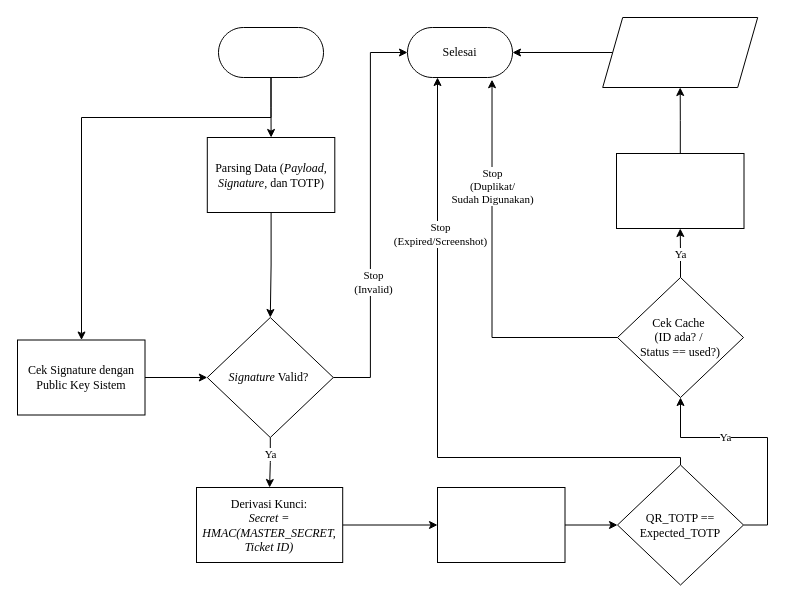
This 793x603 diagram has some shape labels left out. Here are the shapes that lost their labels. From the top down, the centre of each, then its label:
the point at 271,52: Mulai
the point at 680,52: Akses Diterima (Gerbang Buka)
the point at 680,190: Simpan ID dan Status ke Cache
the point at 500,524: Hitung Expected_TOTP = HMAC(Secret, Time)
